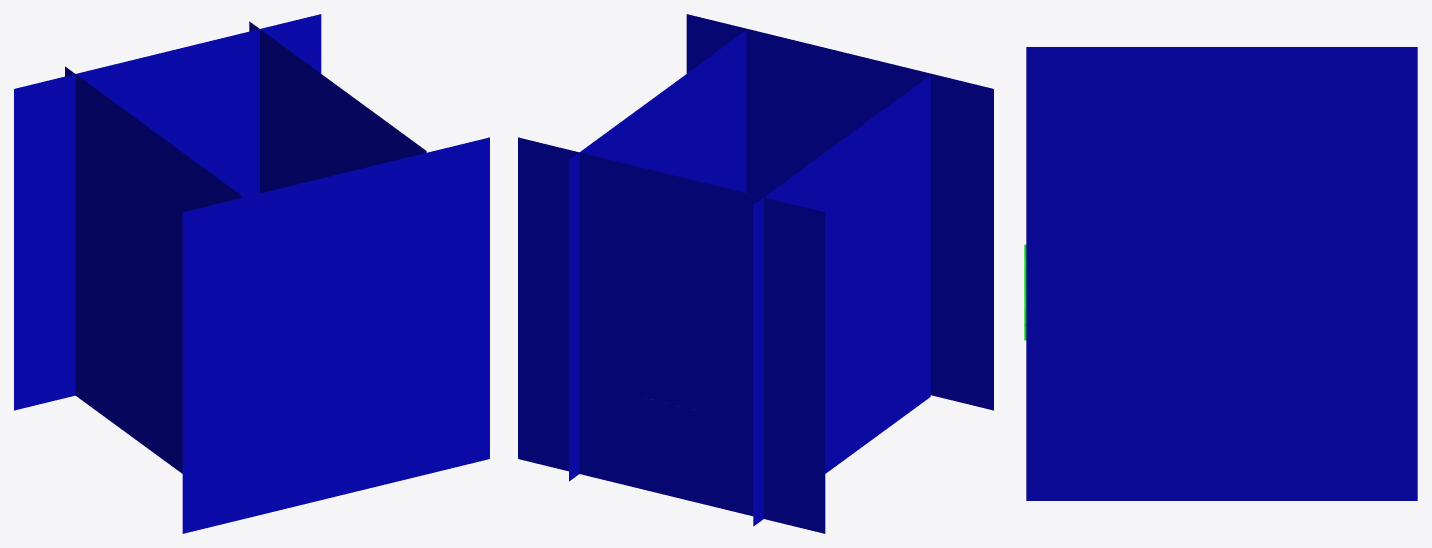
File: StageEndBox.fbx
3 renders of one model, left to right at view 1: azimuth 30°, elevation 25°; view 2: azimuth 150°, elevation 25°; view 3: azimuth 270°, elevation 25°, orthographic. The views are drawn at different scales.
Parts seen in each view (by area): view 1: pPlane9; view 2: pPlane9; view 3: pPlane9.
Part boxes in pixels (bbox=[...]): pPlane9: bbox=[14, 14, 489, 533]; pPlane9: bbox=[518, 14, 993, 533]; pPlane9: bbox=[1026, 47, 1417, 500].
Size of the model in its own units: 100 by 100 by 101.
